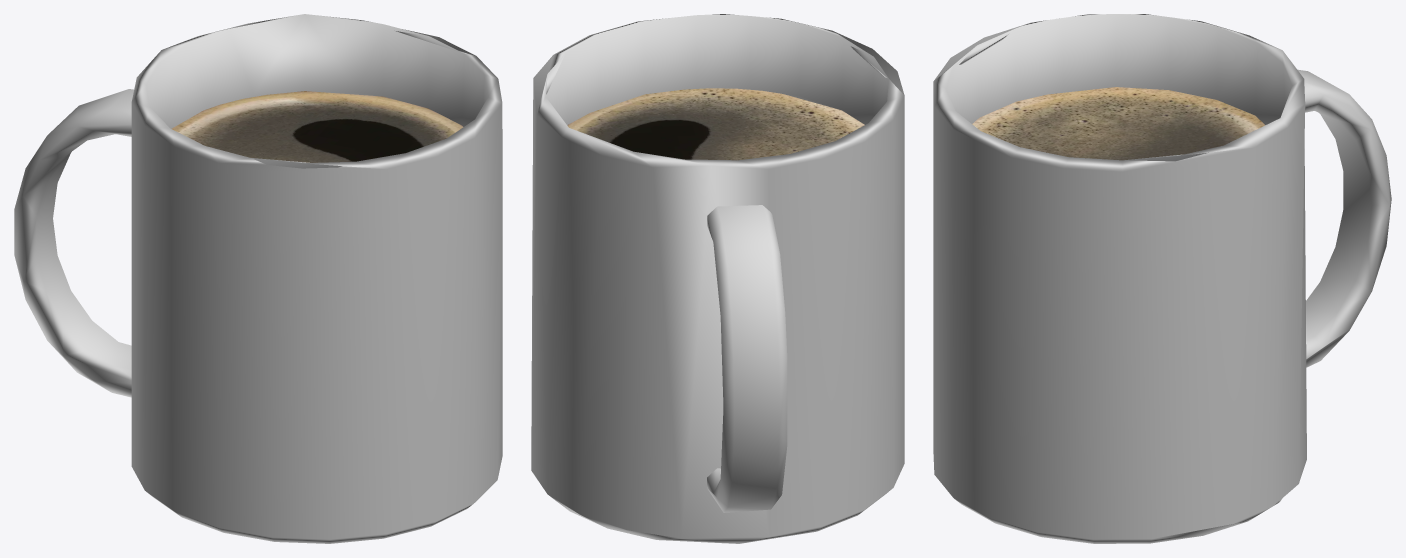
Rendered from coffee_mug_school_project.glb.
The picture shows the model from 3 angles, left to right: view 1: azimuth 30°, elevation 25°; view 2: azimuth 150°, elevation 25°; view 3: azimuth 270°, elevation 25°; orthographic projection.
Parts seen in each view (by area): view 1: Mug1_Mug_0, Mug1_Coffee_0; view 2: Mug1_Mug_0, Mug1_Coffee_0; view 3: Mug1_Mug_0, Mug1_Coffee_0.
Part boxes in pixels (x1=…): Mug1_Mug_0: x1=14, y1=14, x2=502, y2=543; Mug1_Coffee_0: x1=171, y1=91, x2=463, y2=162; Mug1_Mug_0: x1=531, y1=14, x2=904, y2=543; Mug1_Coffee_0: x1=567, y1=88, x2=864, y2=160; Mug1_Mug_0: x1=933, y1=14, x2=1391, y2=543; Mug1_Coffee_0: x1=972, y1=87, x2=1264, y2=160.
Size of the model in its own units: 2.76 by 2.93 by 3.16.
2 materials, 1 textured.
